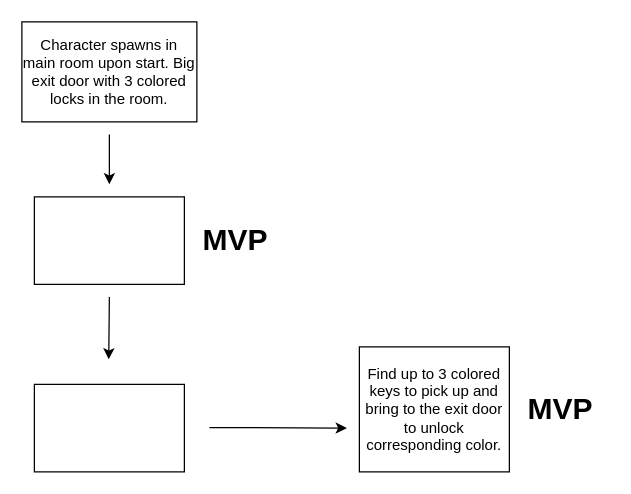
This 631x494 diagram has some shape labels left out. Each missing label, with the centre of its shape:
Control character with WASD to move. Spacebar to pick up items: point (108, 240)
Keys appear in predetermined places every game: point (108, 427)
